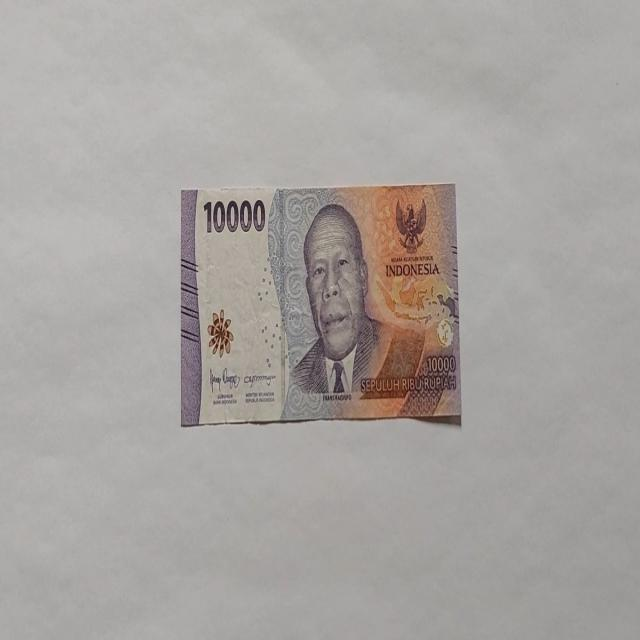sepuluh ribu rupiah: (180, 182, 461, 428)
